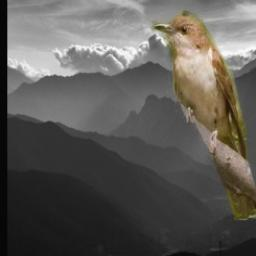Cuckoo: (153, 10, 256, 220)
